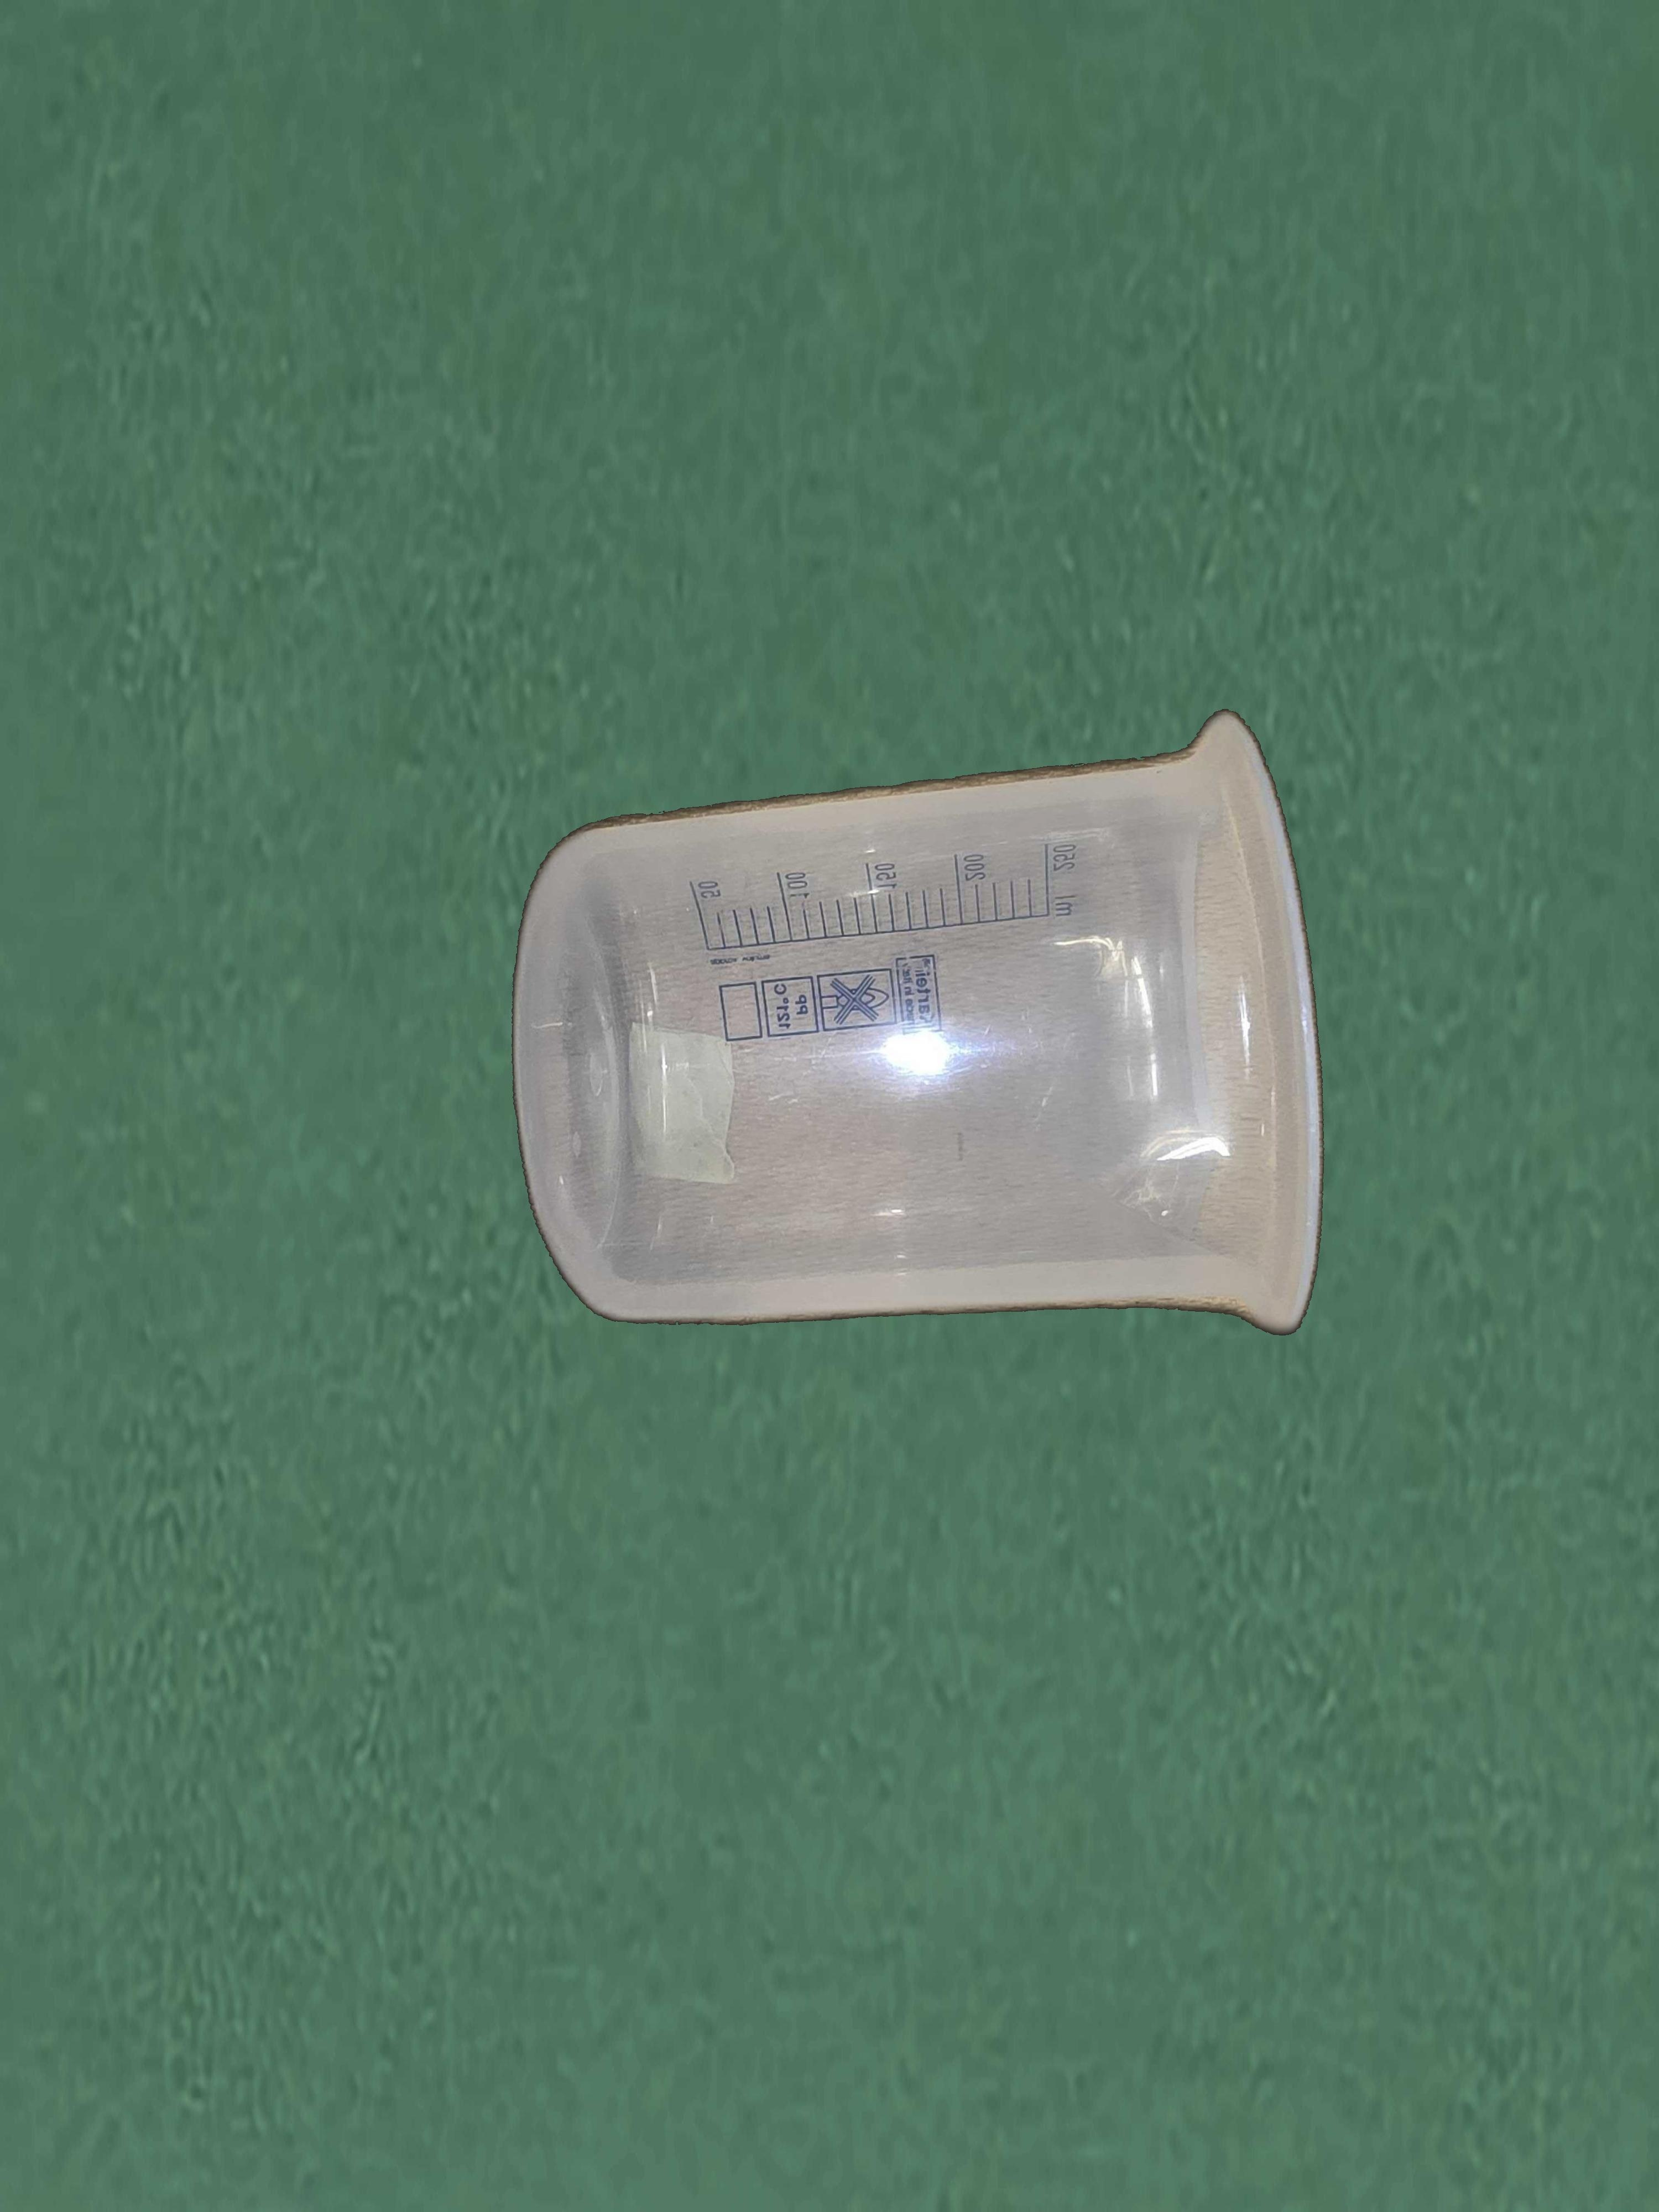becker: (512, 711, 1324, 1332)
